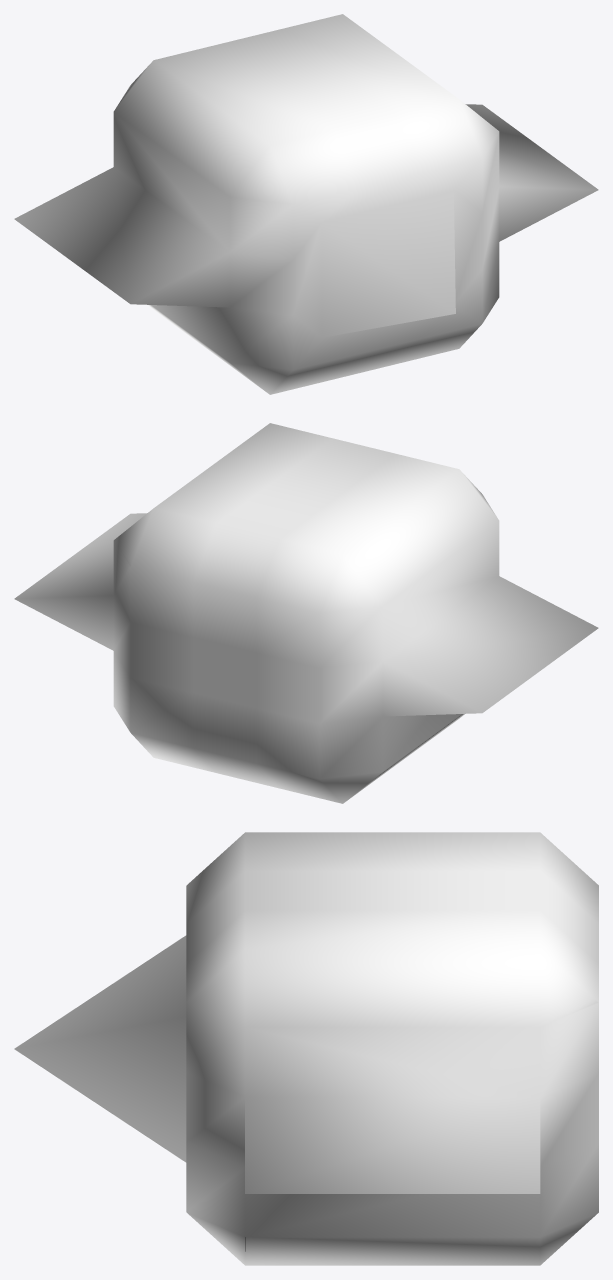
Rendered from airship.obj.
3 views of the same model, one above another, from view 1: azimuth 30°, elevation 25°; view 2: azimuth 150°, elevation 25°; view 3: azimuth 270°, elevation 25° (orthographic). The views are drawn at different scales.
Visible parts, largest first — view 1: Airship; view 2: Airship; view 3: Airship.
Part boxes in pixels (left/top/right/bottom): Airship: left=14, top=14, right=598, bottom=394; Airship: left=14, top=423, right=598, bottom=803; Airship: left=14, top=832, right=598, bottom=1265.
Bounding box in the file's own units: 0.5611 × 0.2856 × 0.4788.
1 material, 1 textured.
